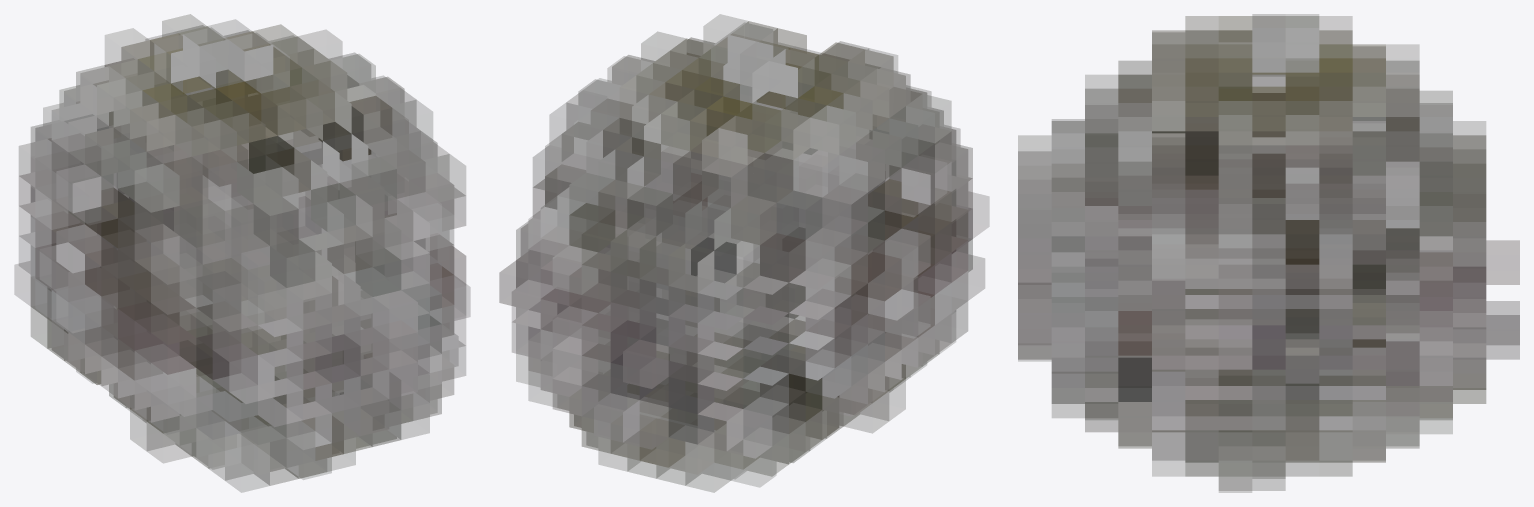
File: iter_20.obj
The picture shows the model from 3 angles, left to right: view 1: azimuth 30°, elevation 25°; view 2: azimuth 150°, elevation 25°; view 3: azimuth 270°, elevation 25°; orthographic projection.
Visible parts, largest first — view 1: iter_20; view 2: iter_20; view 3: iter_20.
Boxes of the visible parts, left/top/right/bottom form: iter_20: left=15, top=14, right=469, bottom=492; iter_20: left=499, top=14, right=988, bottom=492; iter_20: left=1018, top=14, right=1519, bottom=492.
Size of the model in its own units: 1.3 by 1.3 by 1.5.
